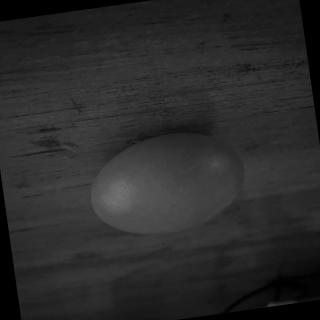Telur: (79, 120, 254, 252)
